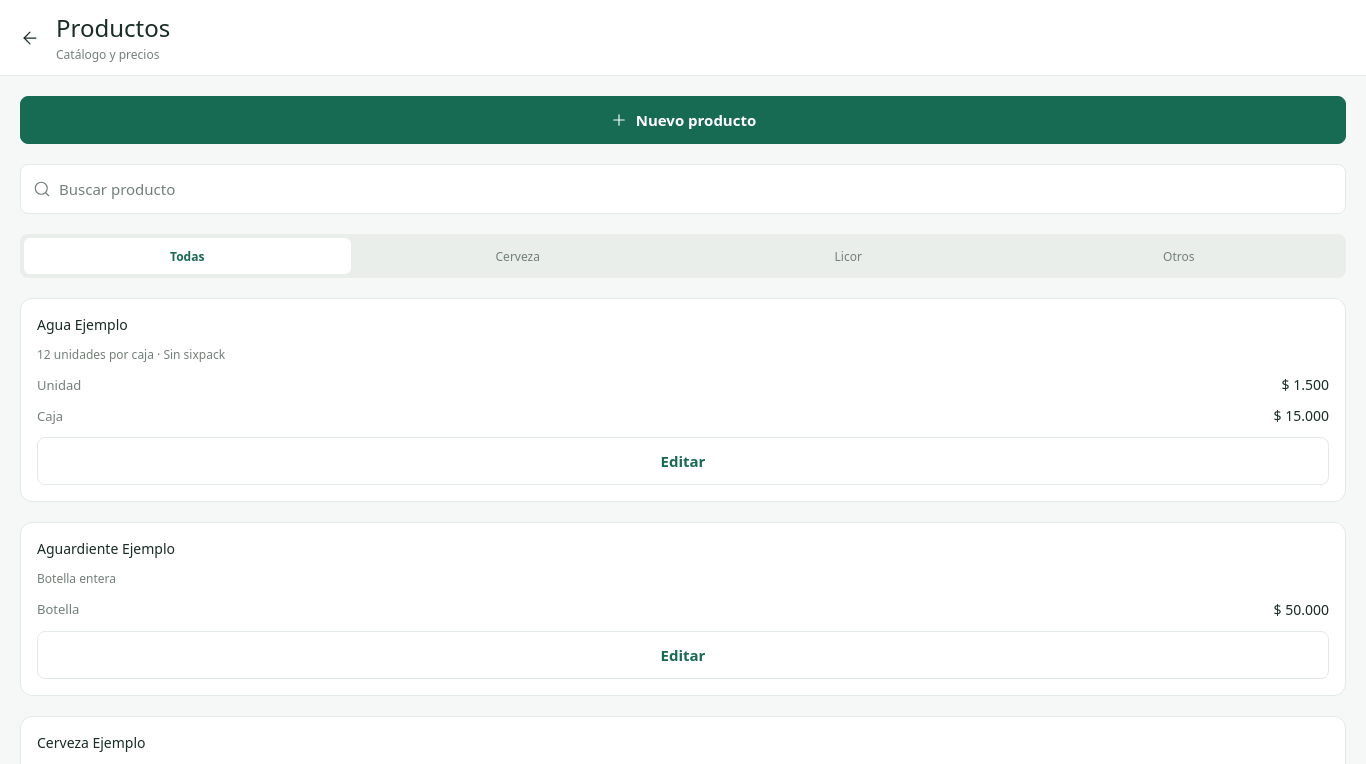
Scenario: Productos › busca por nombre
This screenshot has width=1366, height=764.
Expected: the text "Cerveza Ejemplo" is shown, [37,733,146,752]
Type "agua" into the search field at [696, 189], box [59,178,1333,200]
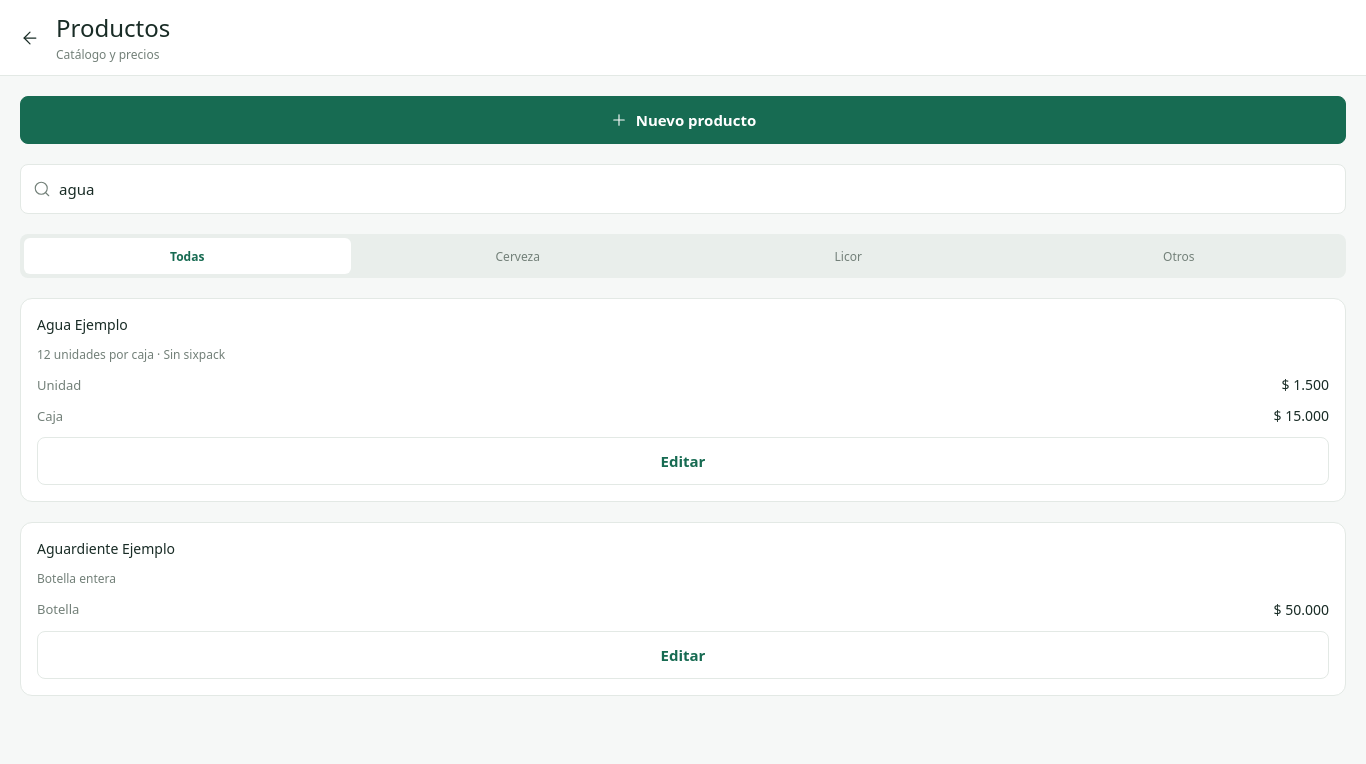
Expected: the text "Agua Ejemplo" is shown, [37,315,128,334]
Expected: the text "Cerveza Ejemplo" is gone
